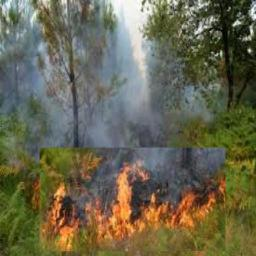Low smoke: (0, 0, 221, 148)
Medium fire: (36, 154, 229, 246)
